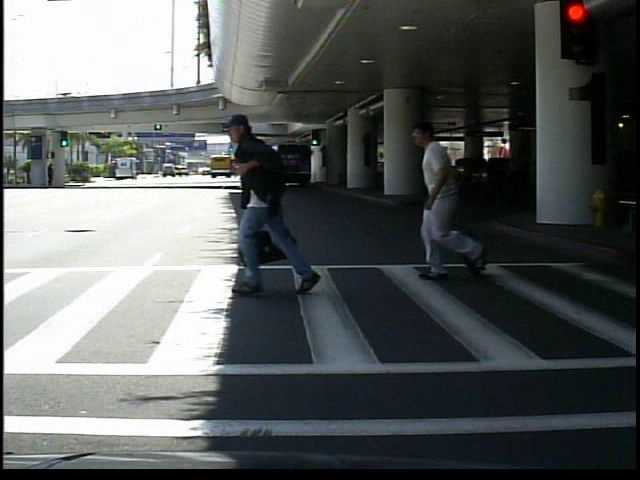person: (225, 116, 311, 299), (416, 112, 480, 280)
